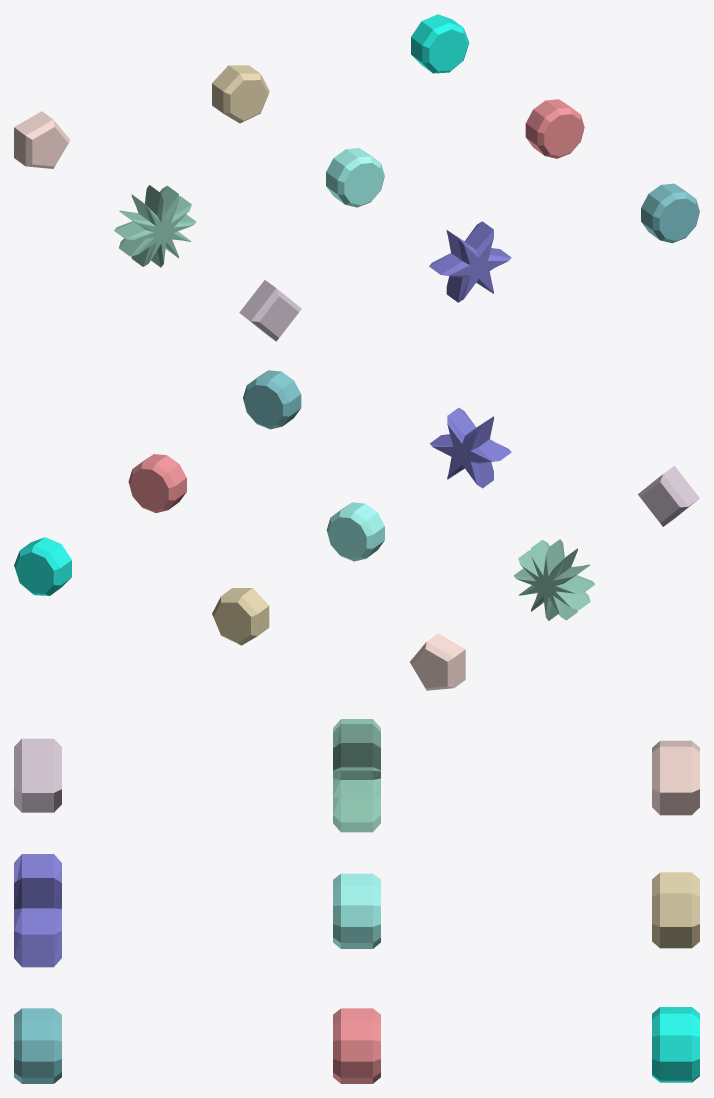
The model's file is std_nrmled_mats_3_LinearExtrusionTest_2023-06-04-21-23-01.gltf.
3 views of the same model, one above another, from view 1: azimuth 30°, elevation 25°; view 2: azimuth 150°, elevation 25°; view 3: azimuth 270°, elevation 25° (orthographic). The views are drawn at different scales.
Size of the model in its own units: 460 by 71.31 by 430.
